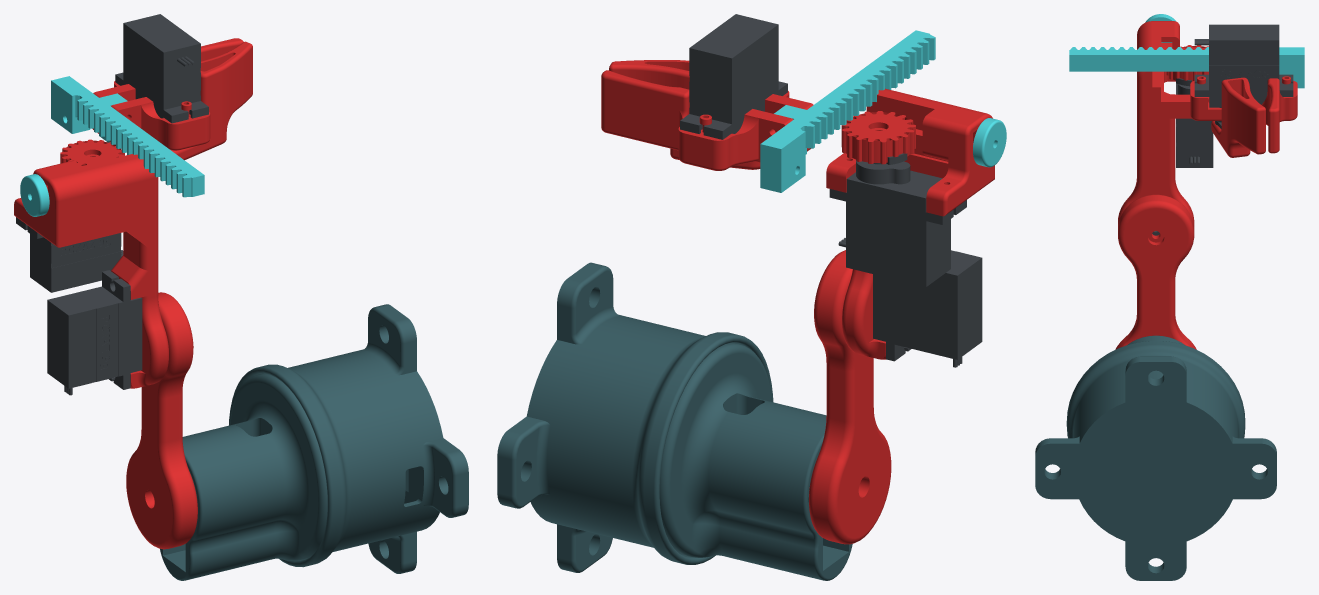
File: scara-web.glb
3 renders of one model, left to right at view 1: azimuth 30°, elevation 25°; view 2: azimuth 150°, elevation 25°; view 3: azimuth 270°, elevation 25°, orthographic. The views are drawn at different scales.
Parts seen in each view (by area): view 1: Solid1.012, Solid1.015, Solid1.008, Solid1.011, Solid1.009, Solid1.006, Solid1.003, Solid1, Solid1.005, Solid1.004, Solid1.002, Solid1.018; view 2: Solid1.012, Solid1.015, Solid1.011, Solid1, Solid1.008, Solid1.004, Solid1.006, Solid1.009, Solid1.003, Solid1.002, Solid1.005, Solid1.018 (+1 smaller); view 3: Solid1.012, Solid1.011, Solid1.008, Solid1.006, Solid1.003, Solid1.005, Solid1.004, Solid1.
Part boxes in pixels (x1,y1,x2,y2): Solid1.012: (229, 304, 468, 573); Solid1.015: (160, 373, 327, 580); Solid1.008: (14, 154, 168, 388); Solid1.011: (126, 292, 197, 549); Solid1.009: (47, 270, 142, 395); Solid1.006: (115, 14, 208, 123); Solid1.003: (51, 76, 204, 197); Solid1: (16, 217, 123, 292); Solid1.005: (171, 41, 252, 160); Solid1.004: (92, 38, 243, 150); Solid1.002: (60, 139, 124, 165); Solid1.018: (20, 174, 49, 216); Solid1.012: (497, 262, 773, 572); Solid1.015: (659, 342, 852, 580); Solid1.011: (809, 250, 891, 544); Solid1: (829, 160, 966, 286); Solid1.008: (826, 88, 994, 359); Solid1.004: (601, 70, 813, 170); Solid1.006: (680, 14, 787, 139); Solid1.009: (873, 250, 982, 367); Solid1.003: (760, 30, 935, 192); Solid1.002: (841, 111, 915, 164); Solid1.005: (609, 60, 760, 169); Solid1.018: (973, 118, 1006, 167); Solid1.012: (1035, 341, 1276, 580); Solid1.011: (1115, 194, 1196, 349); Solid1.008: (1118, 21, 1194, 226); Solid1.006: (1194, 24, 1293, 107); Solid1.003: (1069, 47, 1304, 88); Solid1.005: (1211, 77, 1265, 157); Solid1.004: (1190, 78, 1297, 153); Solid1: (1176, 83, 1213, 167).
Bounding box in the file's own units: 0.1205 × 0.1691 × 0.0881.
